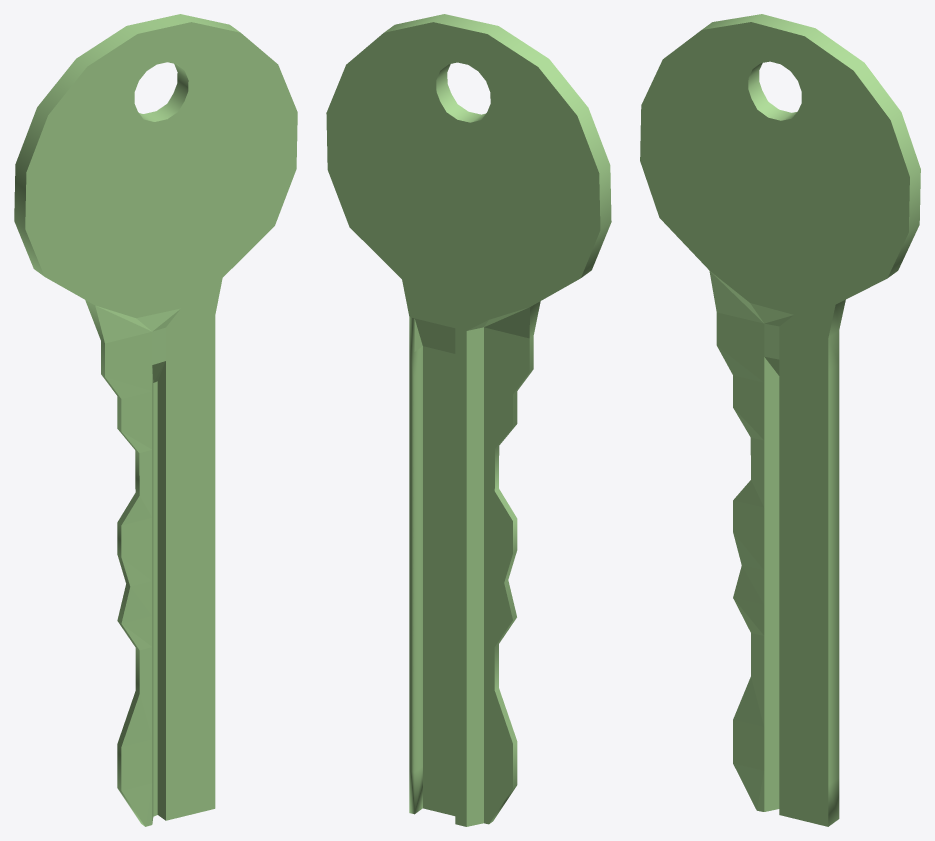
File: Keys_23.FBX
The picture shows the model from 3 angles, left to right: view 1: azimuth 30°, elevation 25°; view 2: azimuth 150°, elevation 25°; view 3: azimuth 330°, elevation 25°; orthographic projection.
Parts seen in each view (by area): view 1: Keys_23; view 2: Keys_23; view 3: Keys_23.
Part boxes in pixels (<box>): Keys_23: <box>14,14,297,826</box>; Keys_23: <box>326,14,611,826</box>; Keys_23: <box>640,14,920,826</box>.
Bounding box in the file's own units: 0.7359 × 2.05 × 0.0571.
